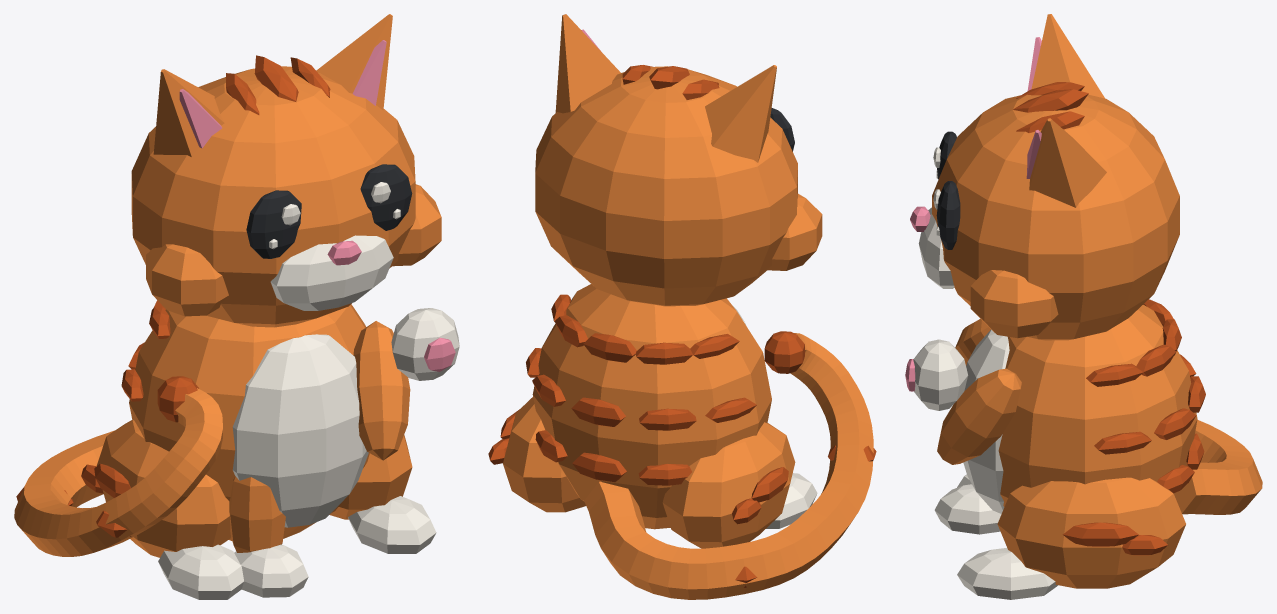
Rendered from orange-tabby-kitten.glb.
3 renders of one model, left to right at view 1: azimuth 30°, elevation 25°; view 2: azimuth 150°, elevation 25°; view 3: azimuth 270°, elevation 25°, orthographic. The views are drawn at different scales.
Visible parts, largest first — view 1: Kitten; view 2: Kitten; view 3: Kitten.
Part boxes in pixels (x1,y1,x2,y2): Kitten: [14, 14, 459, 599]; Kitten: [488, 14, 876, 599]; Kitten: [905, 14, 1262, 599].
Size of the model in its own units: 1.85 by 2.5 by 1.69.
